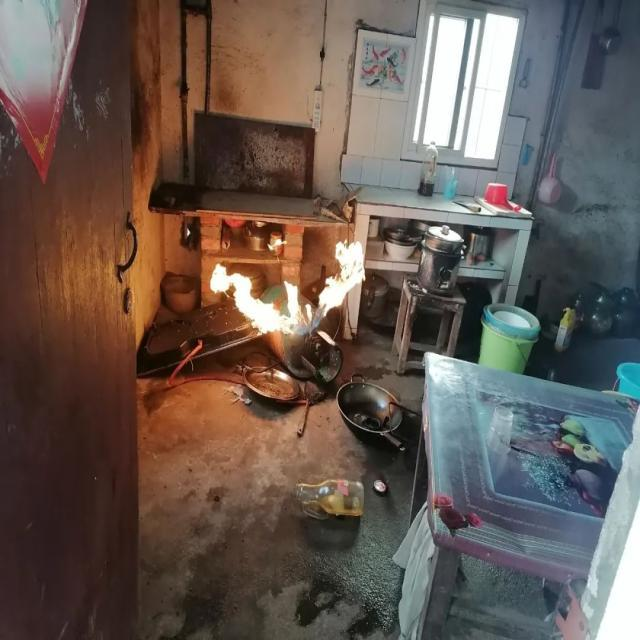Fire: (308, 241, 366, 329), (210, 262, 280, 334), (280, 278, 303, 331)
